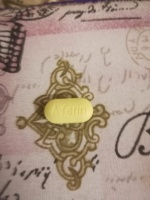Aferin: (43, 97, 94, 125)
